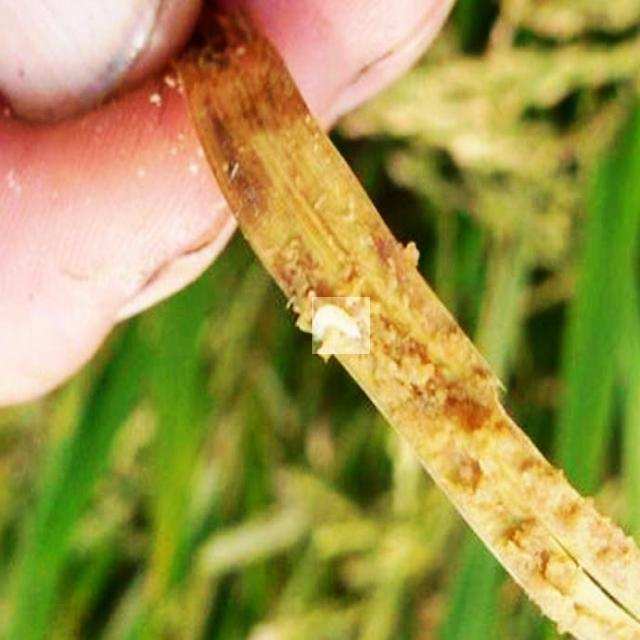whorl-maggot: (312, 297, 370, 354)
